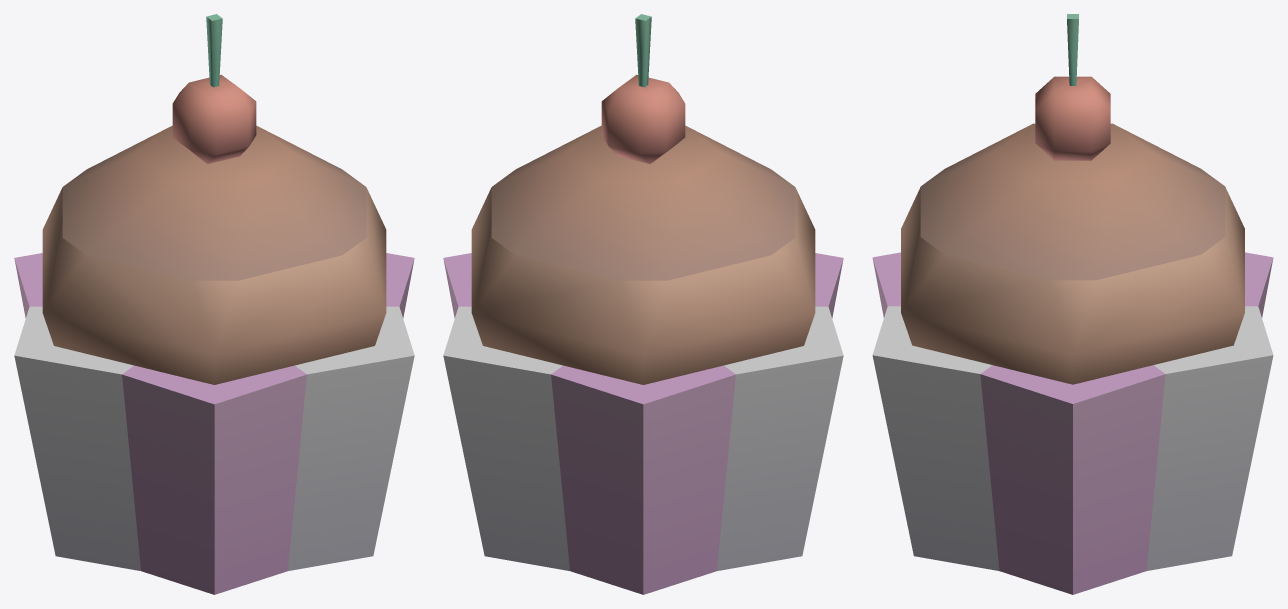
Rendered from cupcake.glb.
3 renders of one model, left to right at view 1: azimuth 30°, elevation 25°; view 2: azimuth 150°, elevation 25°; view 3: azimuth 270°, elevation 25°, orthographic.
Visible parts, largest first — view 1: cupcake; view 2: cupcake; view 3: cupcake.
Part boxes in pixels (x1,y1,x2,y2): cupcake: (14, 14, 414, 594); cupcake: (443, 14, 843, 594); cupcake: (872, 14, 1273, 594).
Bounding box in the file's own units: 0.3552 × 0.4238 × 0.3076.
